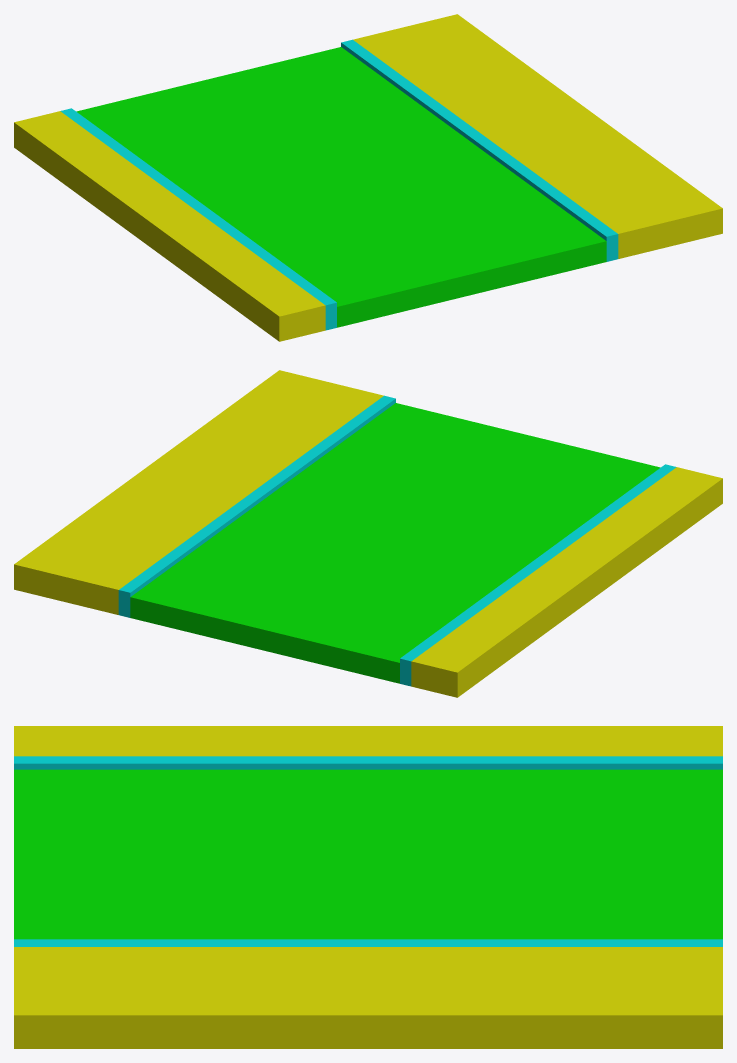
Rendered from straight_road.fbx.
The picture shows the model from 3 angles, top to bottom: view 1: azimuth 30°, elevation 25°; view 2: azimuth 150°, elevation 25°; view 3: azimuth 270°, elevation 25°; orthographic projection. The views are drawn at different scales.
Visible parts, largest first — view 1: straight_road; view 2: straight_road; view 3: straight_road.
Part boxes in pixels (<box>): straight_road: <box>14,14,722,341</box>; straight_road: <box>14,370,722,697</box>; straight_road: <box>14,726,722,1048</box>.
Size of the model in its own units: 555 by 30.14 by 575.
